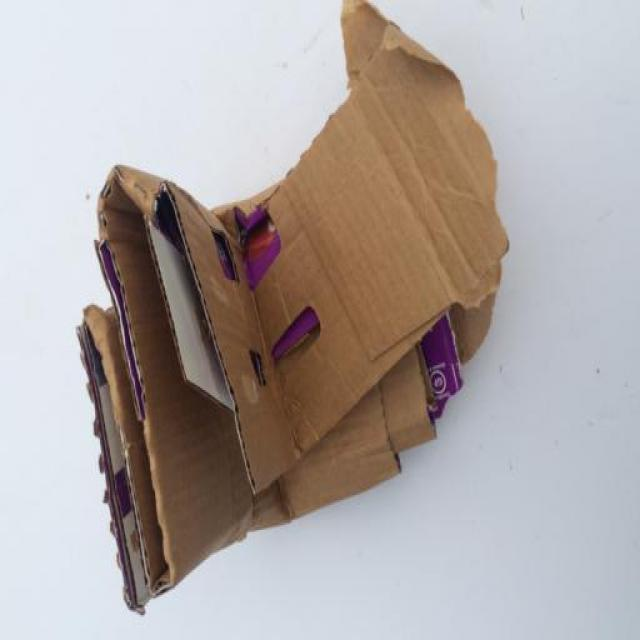cardboard: (61, 1, 514, 629)
